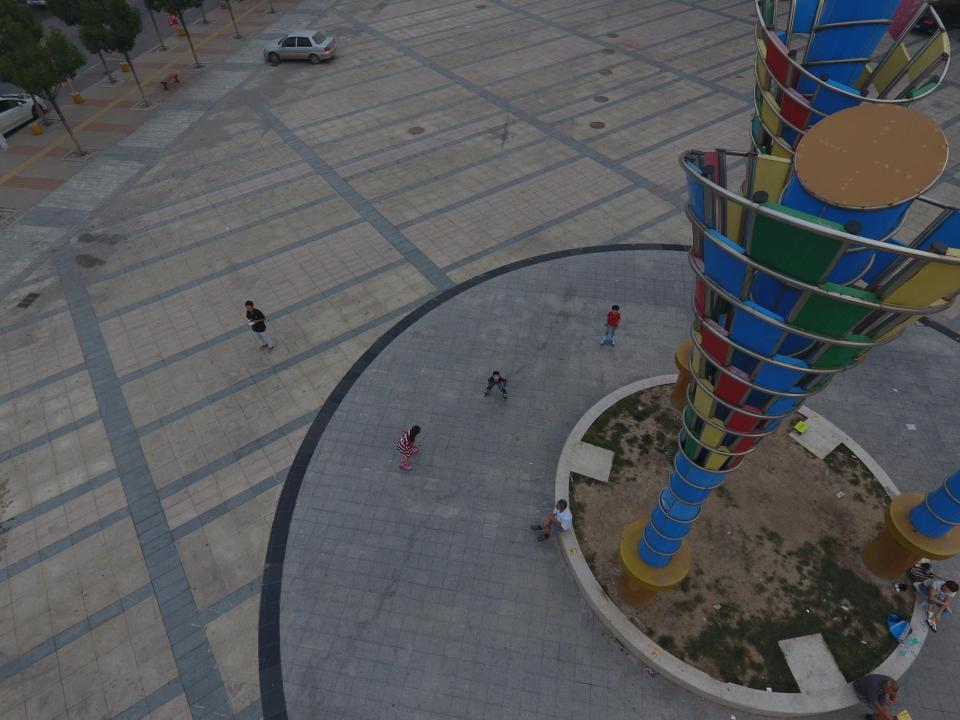car: (0, 89, 47, 149), (262, 29, 338, 65)
